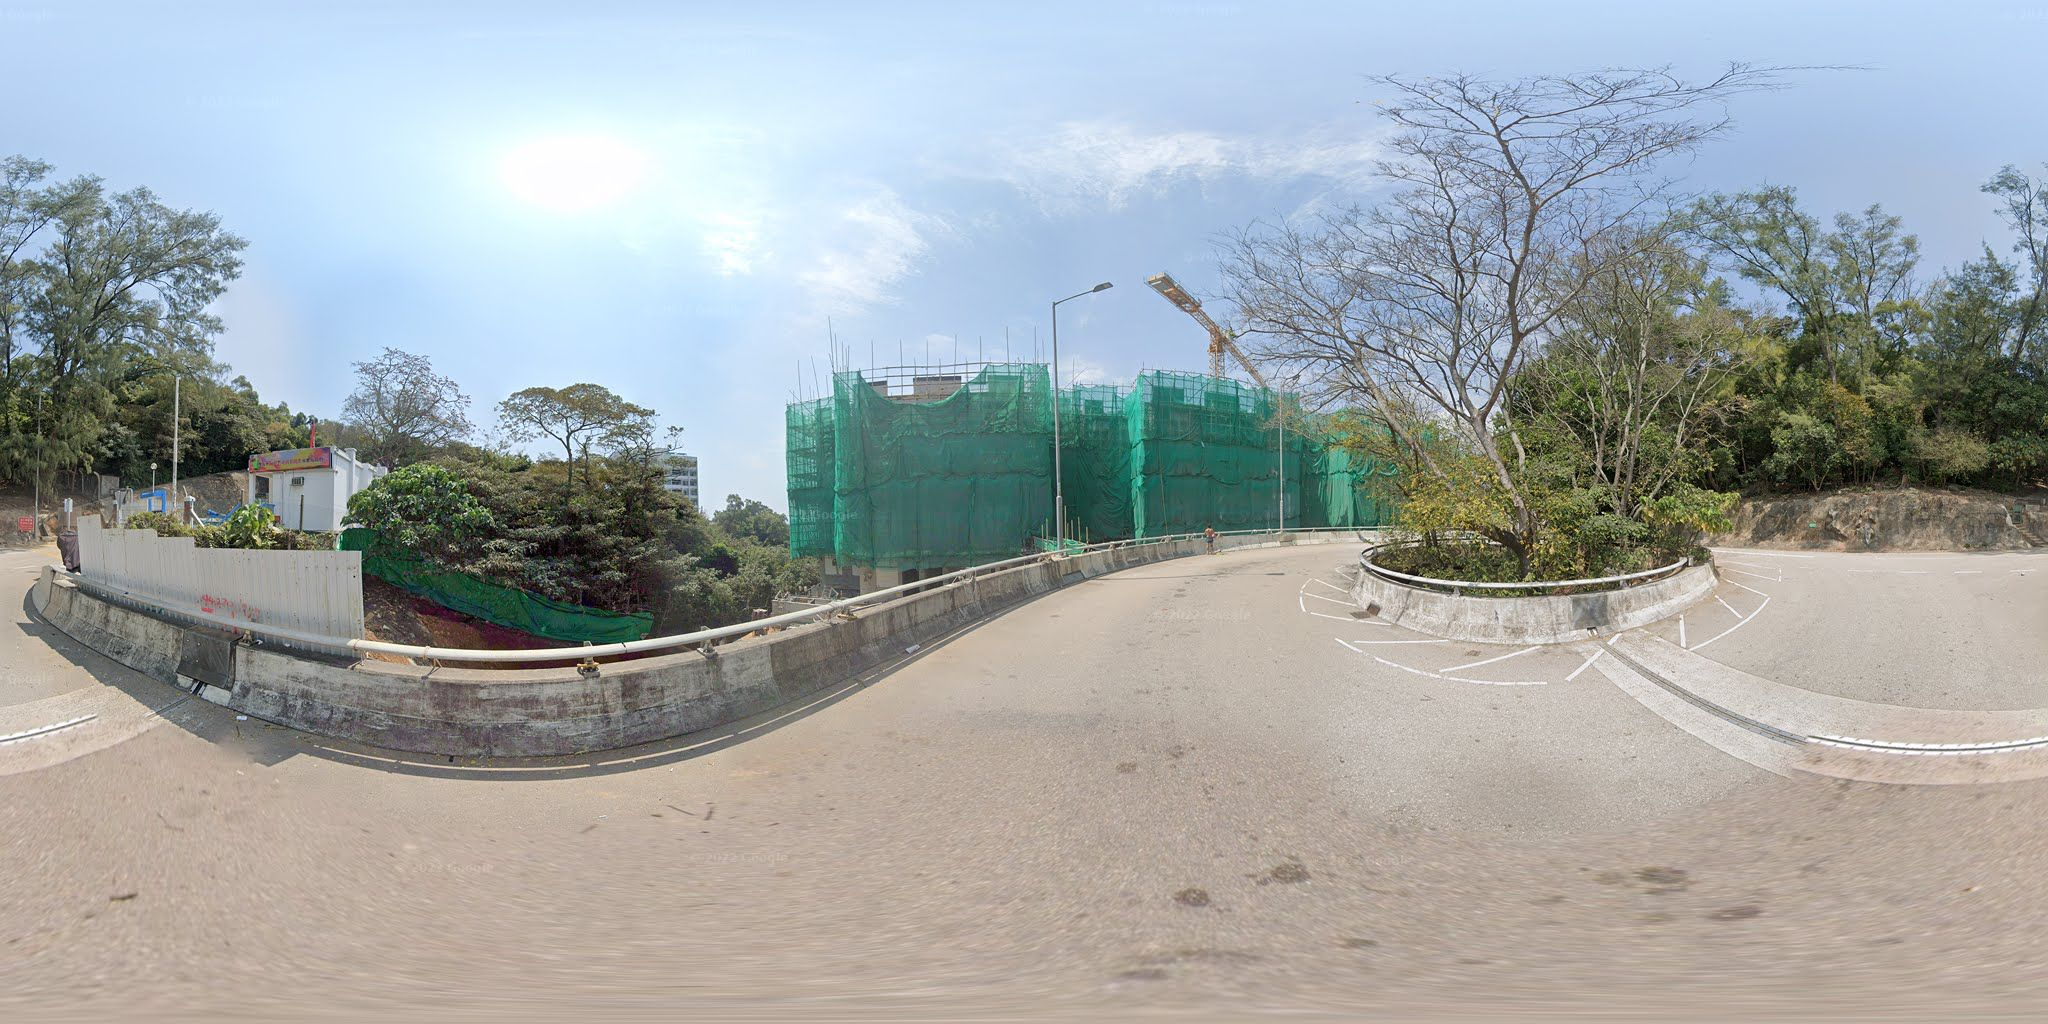SL: (1048, 278, 1118, 310)
